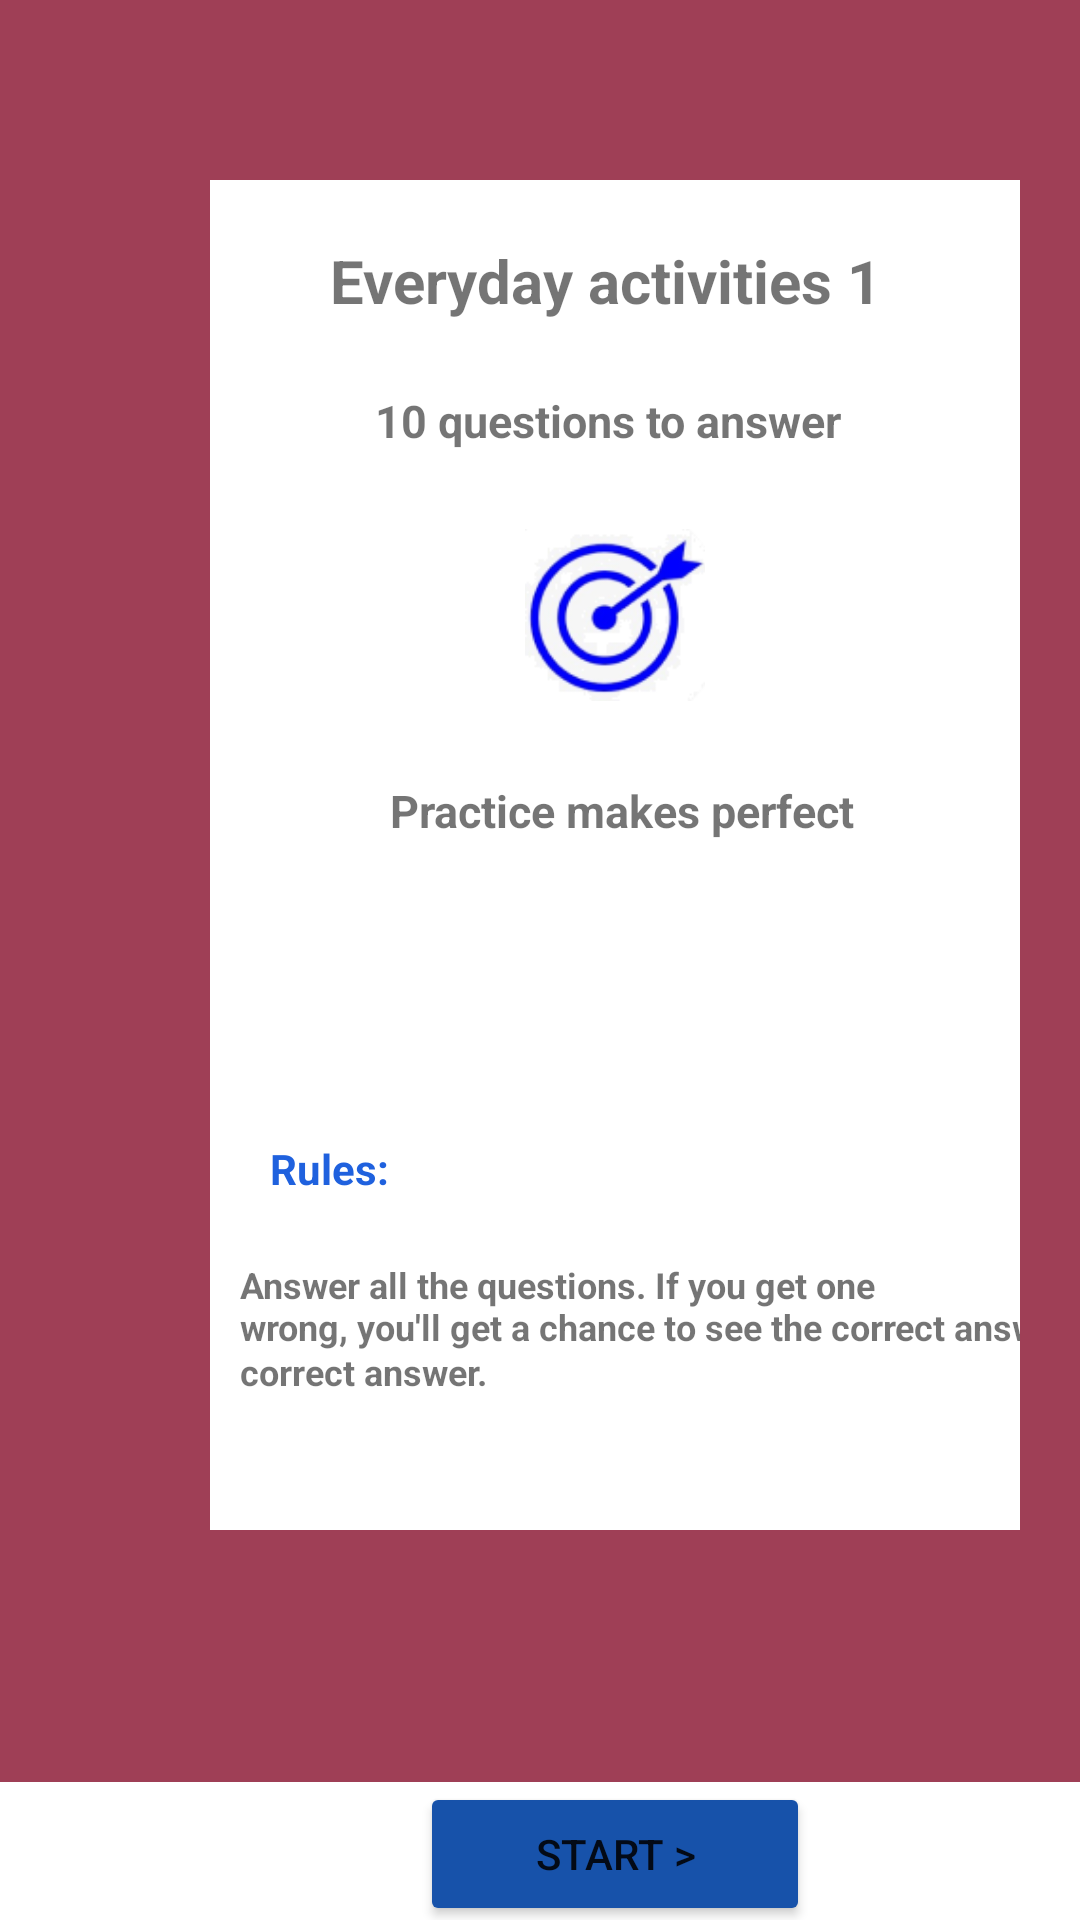

Icons on this 1080*1920 Android screen, each with the point to tap as (x,y):
target: (616,616)
